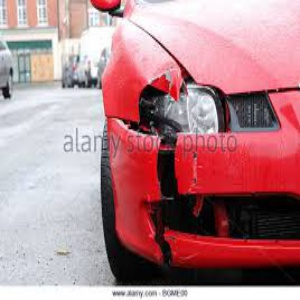bumper: (108, 164, 185, 275)
